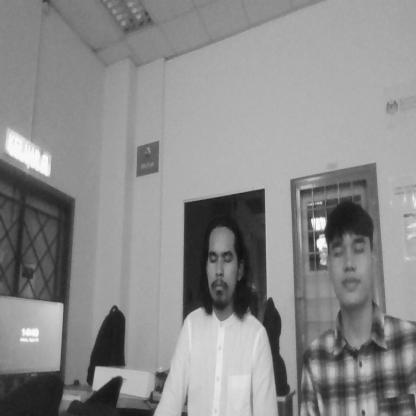Closed-Eyes: (330, 234, 366, 261), (206, 240, 235, 270)
